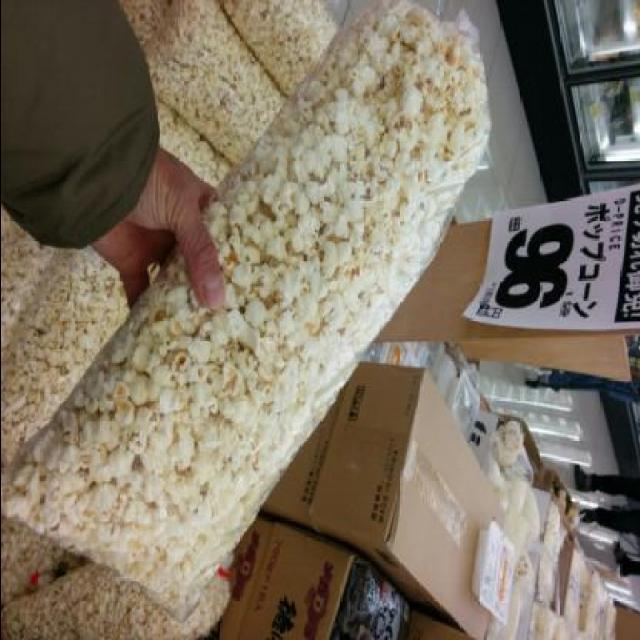Popcorn: (1, 1, 492, 624)
